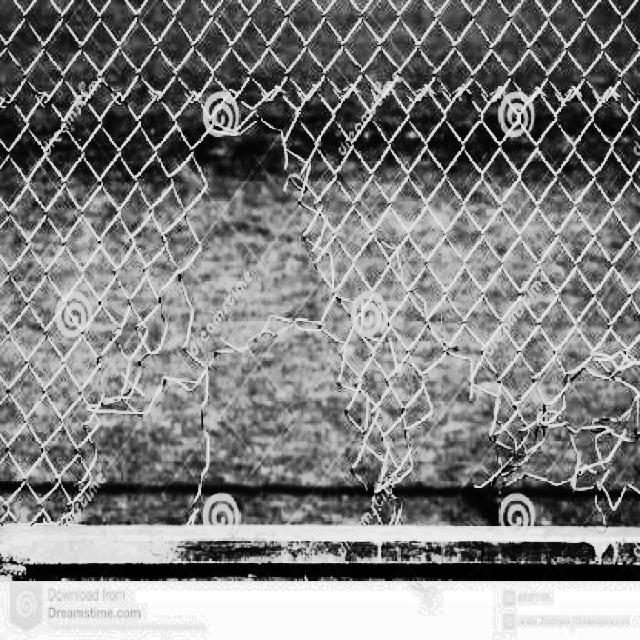anomaly-fence: (67, 64, 635, 527)
